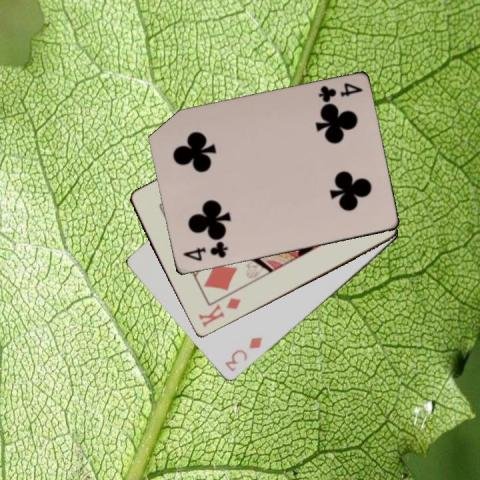3d: (222, 334, 264, 373)
4c: (315, 80, 364, 105), (180, 240, 229, 263)
Kd: (194, 294, 243, 328)
